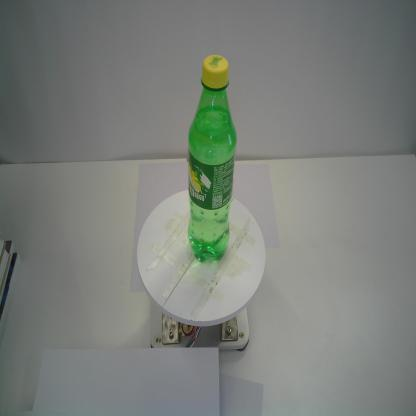Drink: (186, 52, 238, 266)
